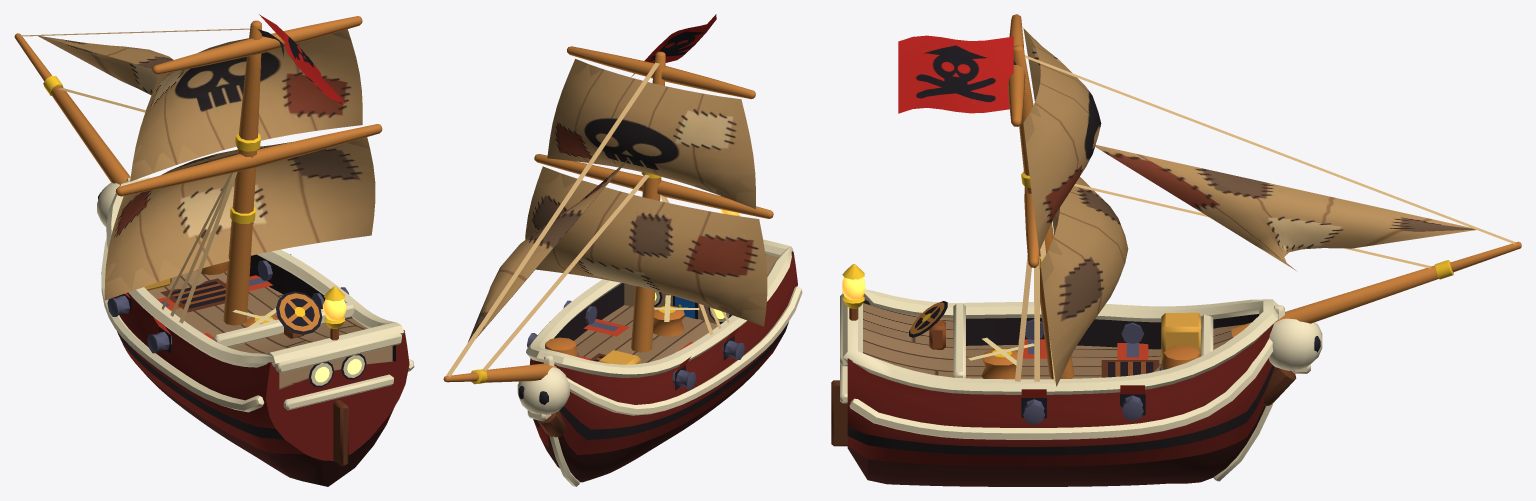
The model's file is brethren_sloop.glb.
3 renders of one model, left to right at view 1: azimuth 30°, elevation 25°; view 2: azimuth 150°, elevation 25°; view 3: azimuth 270°, elevation 25°, orthographic. The views are drawn at different scales.
Visible parts, largest first — view 1: Hull, Sail0_0, Sail0_1, Rigging, Jib, Guns0, Flag; view 2: Hull, Sail0_0, Sail0_1, Rigging, Jib, Guns0, Flag; view 3: Hull, Jib, Rigging, Sail0_0, Sail0_1, Flag, Guns0.
Part boxes in pixels (x1,y1,x2,y2): Hull: (97, 177, 414, 486); Sail0_0: (104, 137, 375, 300); Sail0_1: (130, 29, 362, 181); Rigging: (14, 16, 382, 325); Jib: (38, 36, 173, 95); Guns0: (107, 254, 349, 353); Flag: (259, 14, 345, 103); Hull: (517, 196, 802, 486); Sail0_0: (525, 166, 767, 326); Sail0_1: (547, 59, 755, 208); Rigging: (443, 41, 773, 384); Jib: (468, 159, 628, 341); Guns0: (527, 300, 744, 389); Flag: (631, 14, 716, 76); Hull: (831, 264, 1322, 486); Jib: (1095, 145, 1476, 270); Rigging: (1008, 14, 1521, 381); Sail0_0: (1040, 177, 1128, 386); Sail0_1: (1023, 28, 1101, 251); Flag: (898, 35, 1013, 113); Guns0: (1018, 319, 1148, 424).
Size of the model in its own units: 1.19 by 1.8 by 2.51.
9 materials, 4 textured.
